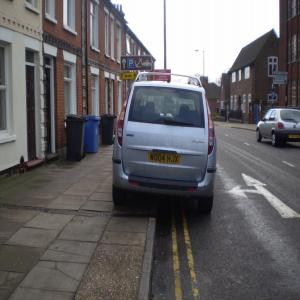Vehicle-registration-plate: (148, 152, 182, 163), (290, 136, 300, 140)
